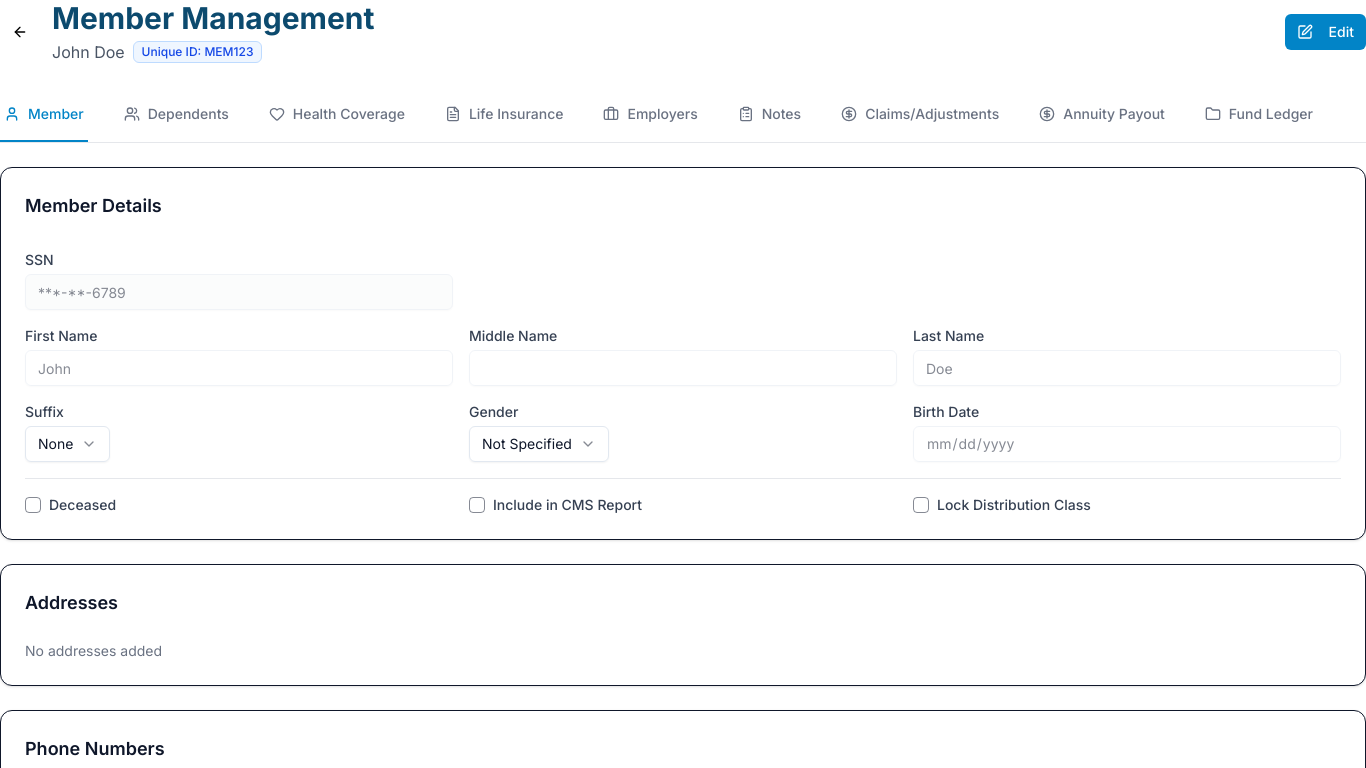
Scenario: Claims/Adjustments Tab › should enable create claim button when required fields are filled
Expected: the text "John Doe" is shown, left=52, top=40, right=125, bottom=64
# Click on Claims/Adjustments tab
Click the button "Claims/Adjustments". click: (920, 115)
box: left=837, top=88, right=1003, bottom=142
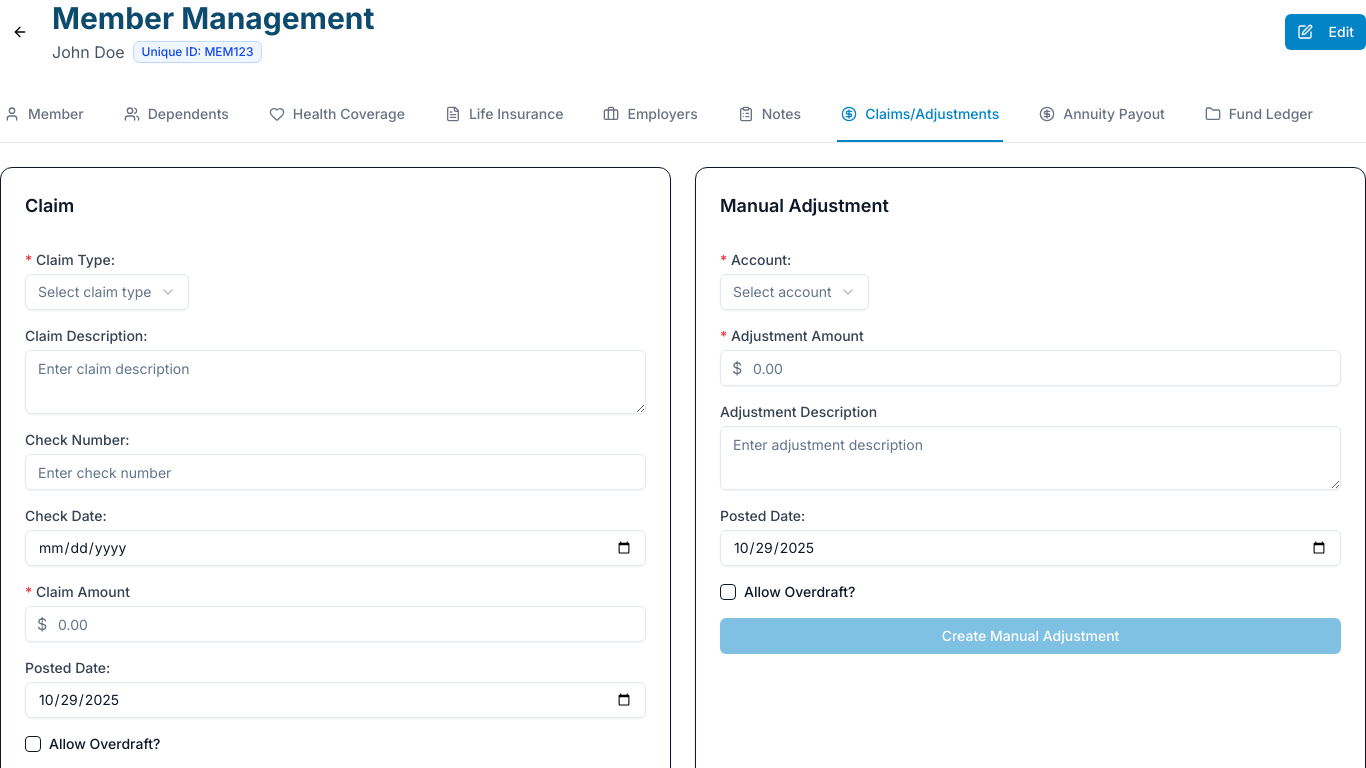
Expected: the text "Select claim type" is shown, left=38, top=282, right=152, bottom=302
# Select claim type (this should enable the dropdown)
Click the dropdown "Select claim type". click: (107, 292)
box: left=25, top=274, right=188, bottom=310
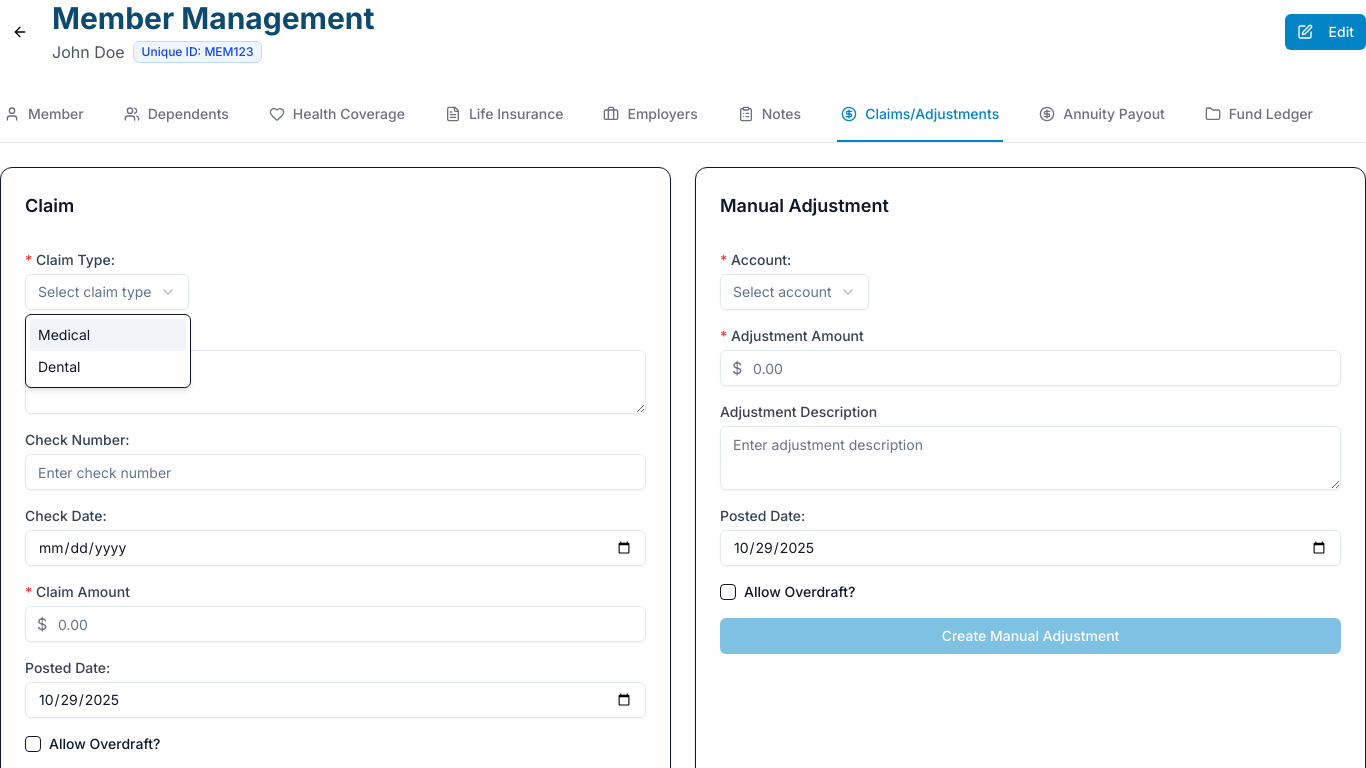
Expected: the text "Medical" is shown, left=38, top=325, right=90, bottom=345
Click the option "Medical". click: (108, 335)
box: left=30, top=319, right=186, bottom=351
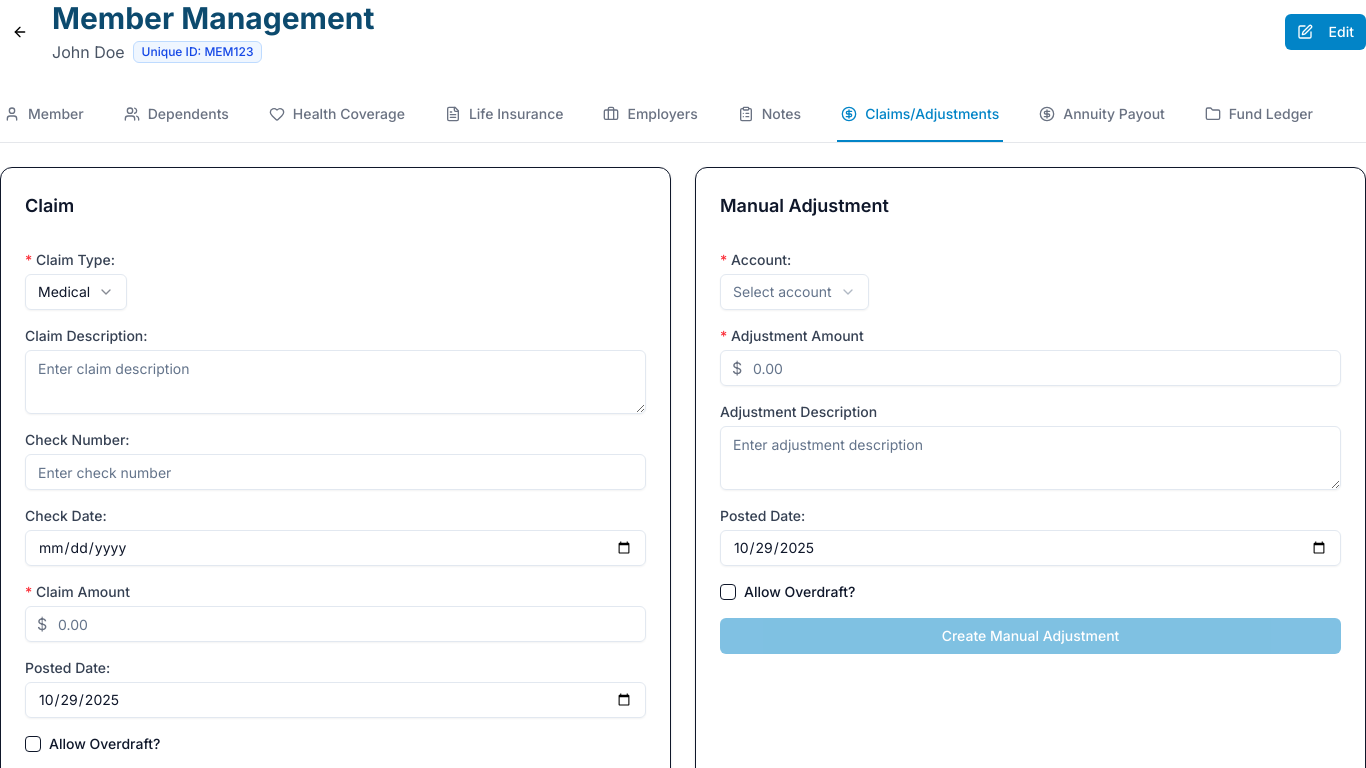
# Fill in claim amount
Type "100.00" into the number field with placeholder "0.00" below "Claim Amount". click: (336, 624)
box: left=25, top=606, right=646, bottom=642
(page scrolled)
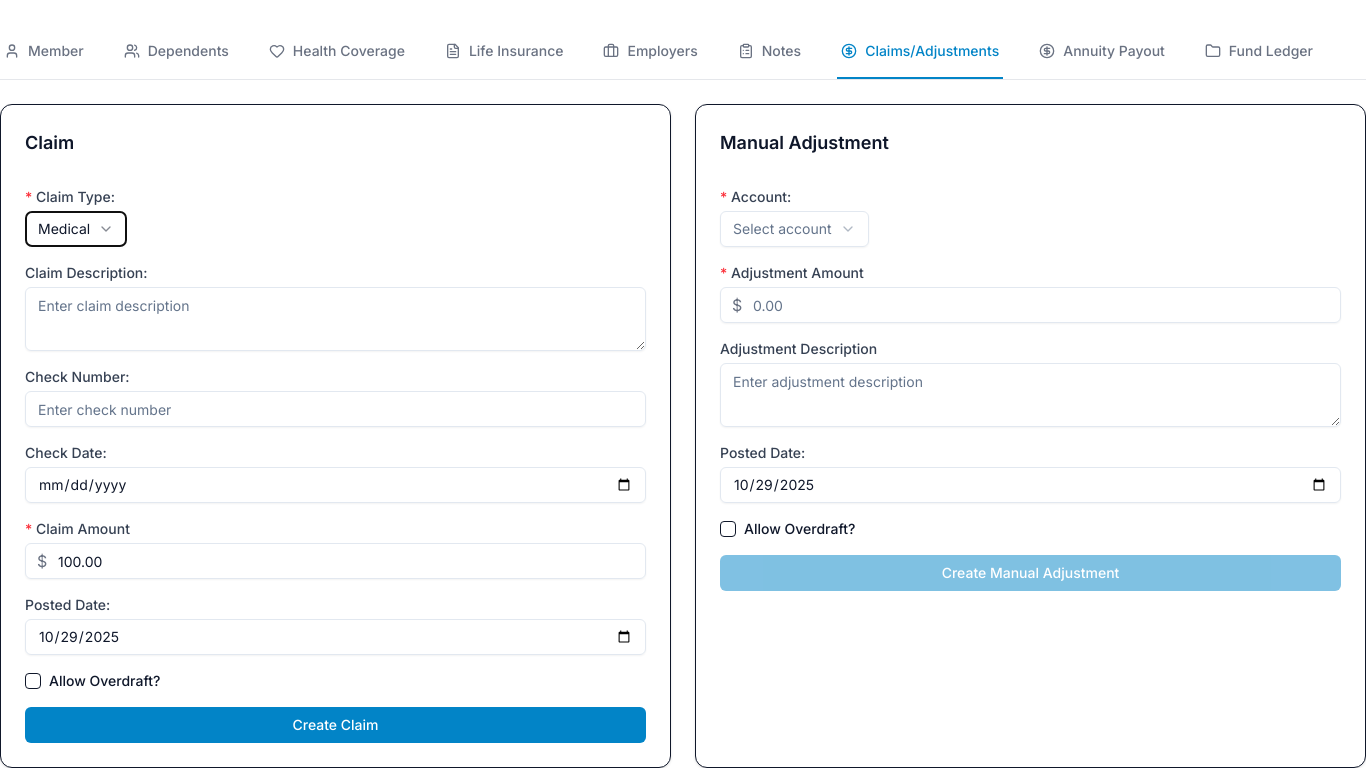
Expected: the button "Create Claim" is enabled, left=25, top=707, right=646, bottom=743
